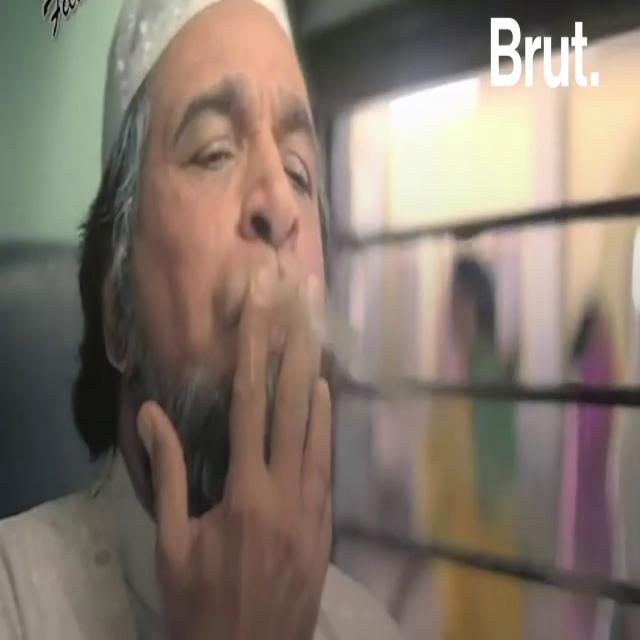spit: (134, 0, 533, 532)
